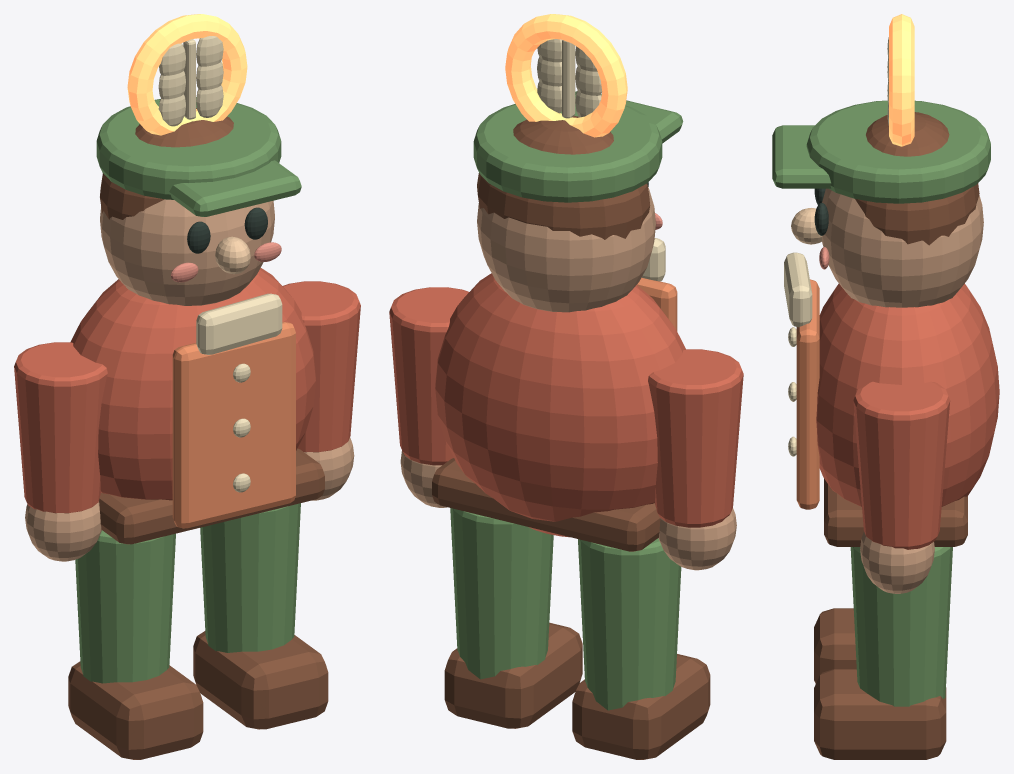
The model's file is bracken_grower.glb.
3 renders of one model, left to right at view 1: azimuth 30°, elevation 25°; view 2: azimuth 150°, elevation 25°; view 3: azimuth 270°, elevation 25°, orthographic. The views are drawn at different scales.
Parts seen in each view (by area): view 1: Grower jacket front, Grower jacket, Sleeve, Trouser leg, Trouser leg.001, Head, Flat cap crown, Boot.001, Boot, Sleeve.001, Identity ring, Grower belt (+15 smaller); view 2: Grower jacket, Trouser leg, Trouser leg.001, Sleeve, Head, Flat cap crown, Sleeve.001, Boot, Boot.001, Hair, Identity ring, Grower belt (+8 smaller); view 3: Grower jacket, Sleeve.001, Flat cap crown, Trouser leg.001, Head, Boot.001, Hair, Grower jacket front, Identity ring, Grower belt, Hand.001, Flat cap peak (+3 smaller).
Part boxes in pixels (x1=…): Grower jacket front: x1=172, y1=322, x2=295, y2=528; Grower jacket: x1=70, y1=268, x2=315, y2=500; Sleeve: x1=14, y1=342, x2=107, y2=513; Trouser leg: x1=75, y1=530, x2=175, y2=683; Trouser leg.001: x1=200, y1=503, x2=300, y2=652; Head: x1=100, y1=199, x2=274, y2=305; Flat cap crown: x1=96, y1=97, x2=281, y2=199; Boot.001: x1=193, y1=631, x2=328, y2=729; Boot: x1=68, y1=661, x2=203, y2=759; Sleeve.001: x1=282, y1=281, x2=360, y2=452; Identity ring: x1=127, y1=14, x2=247, y2=135; Grower belt: x1=99, y1=448, x2=324, y2=544; Grower jacket: x1=435, y1=273, x2=685, y2=537; Trouser leg: x1=578, y1=538, x2=681, y2=710; Trouser leg.001: x1=450, y1=508, x2=553, y2=679; Sleeve: x1=648, y1=349, x2=743, y2=527; Head: x1=477, y1=187, x2=655, y2=312; Flat cap crown: x1=473, y1=96, x2=662, y2=202; Sleeve.001: x1=389, y1=287, x2=468, y2=465; Boot: x1=572, y1=654, x2=710, y2=759; Boot.001: x1=444, y1=622, x2=582, y2=728; Hair: x1=477, y1=116, x2=650, y2=239; Identity ring: x1=505, y1=14, x2=627, y2=137; Grower belt: x1=432, y1=458, x2=660, y2=551; Grower jacket: x1=816, y1=283, x2=999, y2=506; Sleeve.001: x1=853, y1=381, x2=950, y2=549; Flat cap crown: x1=806, y1=100, x2=990, y2=203; Trouser leg.001: x1=850, y1=547, x2=952, y2=706; Head: x1=822, y1=188, x2=983, y2=307; Boot.001: x1=814, y1=669, x2=946, y2=759; Hair: x1=855, y1=112, x2=979, y2=245; Grower jacket front: x1=796, y1=279, x2=819, y2=509; Identity ring: x1=889, y1=14, x2=914, y2=146; Grower belt: x1=824, y1=478, x2=967, y2=546; Hand.001: x1=860, y1=532, x2=934, y2=593; Flat cap peak: x1=772, y1=125, x2=831, y2=188.
Size of the model in its own units: 1.33 by 2.67 by 0.79.
